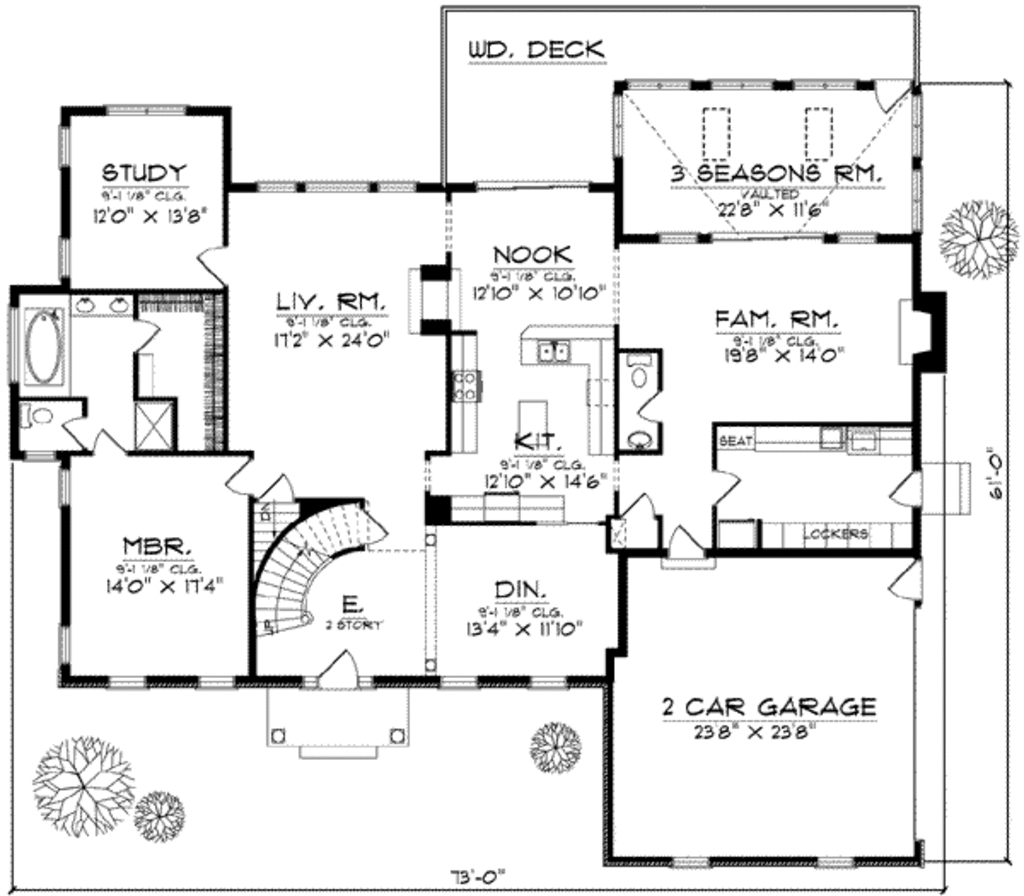door: (663, 523, 714, 567), (881, 558, 926, 606), (314, 645, 363, 686), (193, 240, 233, 288), (220, 453, 260, 494), (703, 466, 740, 506), (885, 470, 921, 511), (876, 72, 911, 113), (127, 313, 162, 352), (59, 410, 91, 451), (619, 491, 657, 525), (252, 476, 291, 504), (89, 431, 130, 455), (638, 389, 661, 423)
kitchen_bar: (507, 393, 560, 469)
large_sink: (622, 351, 659, 391)
tub: (19, 295, 72, 397)
twin_sink: (530, 333, 578, 368)
windows: (621, 69, 861, 95), (645, 230, 887, 248), (249, 178, 420, 198), (97, 103, 187, 120), (101, 673, 150, 694), (529, 670, 573, 692), (666, 854, 714, 873), (185, 673, 235, 691), (809, 851, 856, 870), (54, 237, 72, 282), (436, 675, 483, 691), (57, 622, 71, 673), (56, 124, 72, 168), (53, 469, 69, 508)
